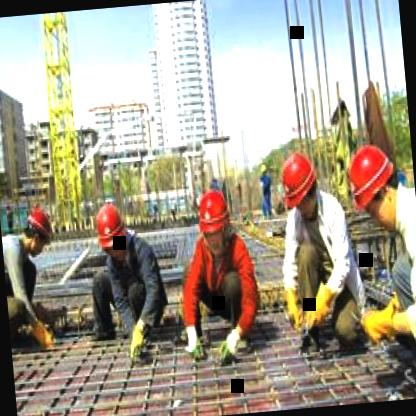helmet: (344, 140, 401, 234), (276, 147, 322, 222), (194, 187, 238, 258), (90, 198, 128, 264), (16, 204, 58, 258)
